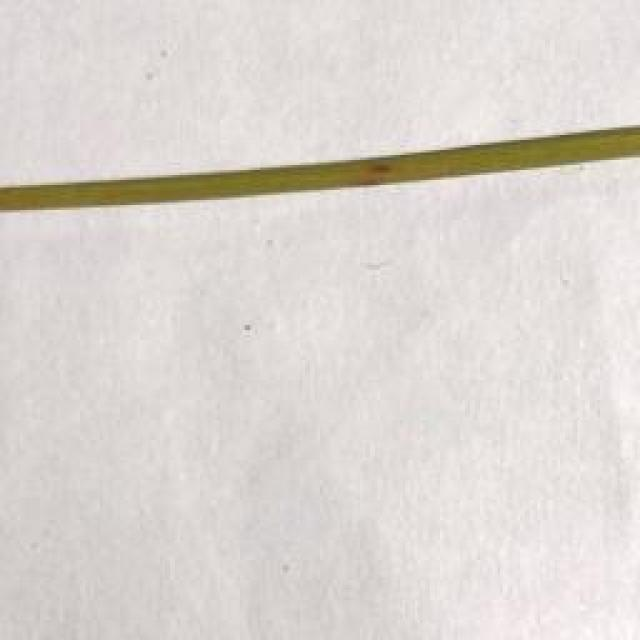Brown_Spot: (348, 153, 403, 192)
